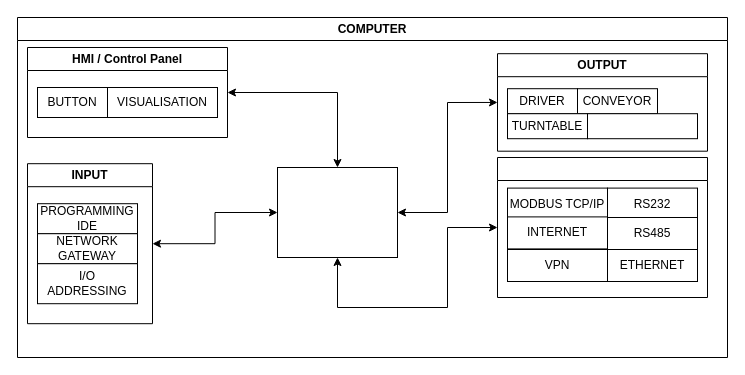
The diagram is 745 pixels wide and 375 high, and some of its shapes have lost their labels. The shapes that lost their labels are listed below. From the top down, each one's box as (x1, y1, x2, y2) in pixels, then its label:
(586, 113, 698, 139): INDICATOR LIGHT
(276, 166, 398, 258): (VIRTUAL) Programmable Logic Controller
(496, 156, 708, 298): NETWORK PROTOCOL
